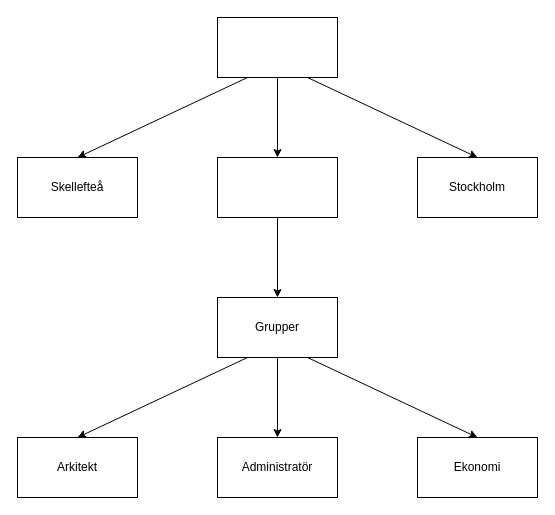
The diagram is 555 pixels wide and 515 high, and some of its shapes have lost their labels. Here are the shapes that lost their labels. From the top down, the box of each, then its label:
(216, 16, 338, 78): Viktors Vinklar
(216, 156, 338, 218): Umeå
